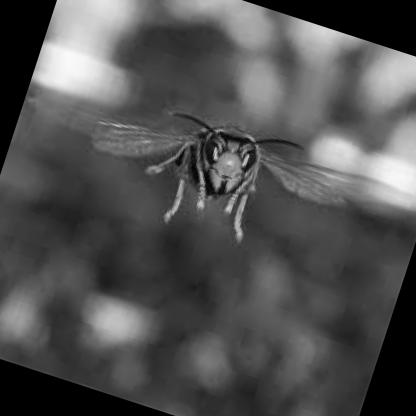asian: (32, 50, 415, 306)
